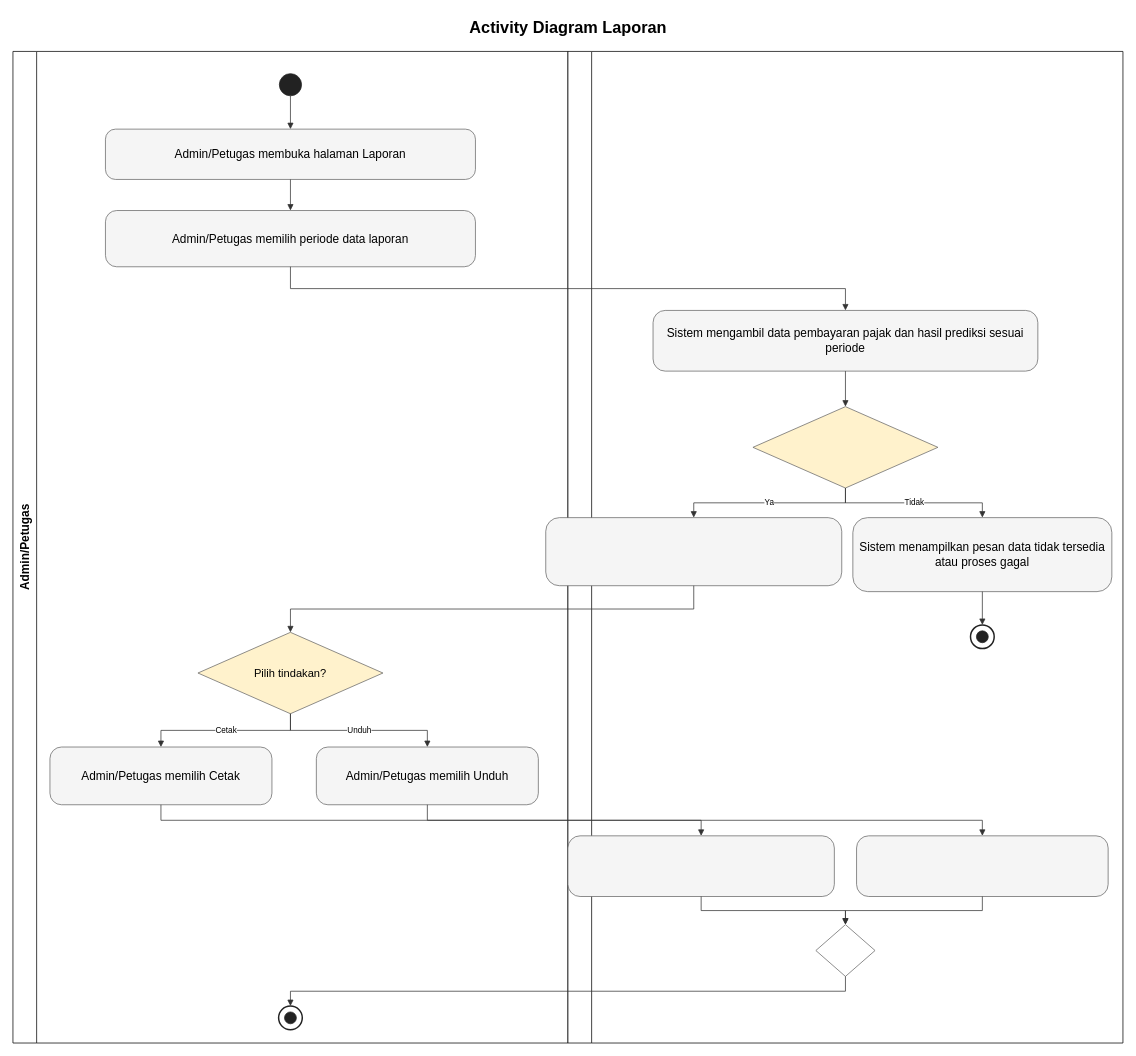
Some shapes in this 1136 by 1056 pixel diagram are drawn without their labels. Each missing label, with the centre of its shape:
"Data tersedia dan pengambilan berhasil?" goes at point 845,447.
"Sistem menampilkan data pajak dan hasil prediksi secara terstruktur" goes at point 693,551.
"Sistem menghasilkan file laporan untuk diunduh" goes at point 982,866.
"Sistem menghasilkan laporan untuk dicetak" goes at point 700,866.
